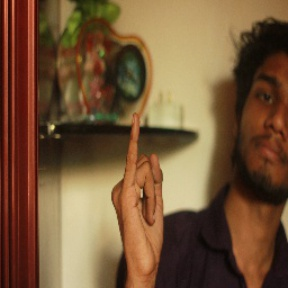I: (106, 111, 173, 270)
